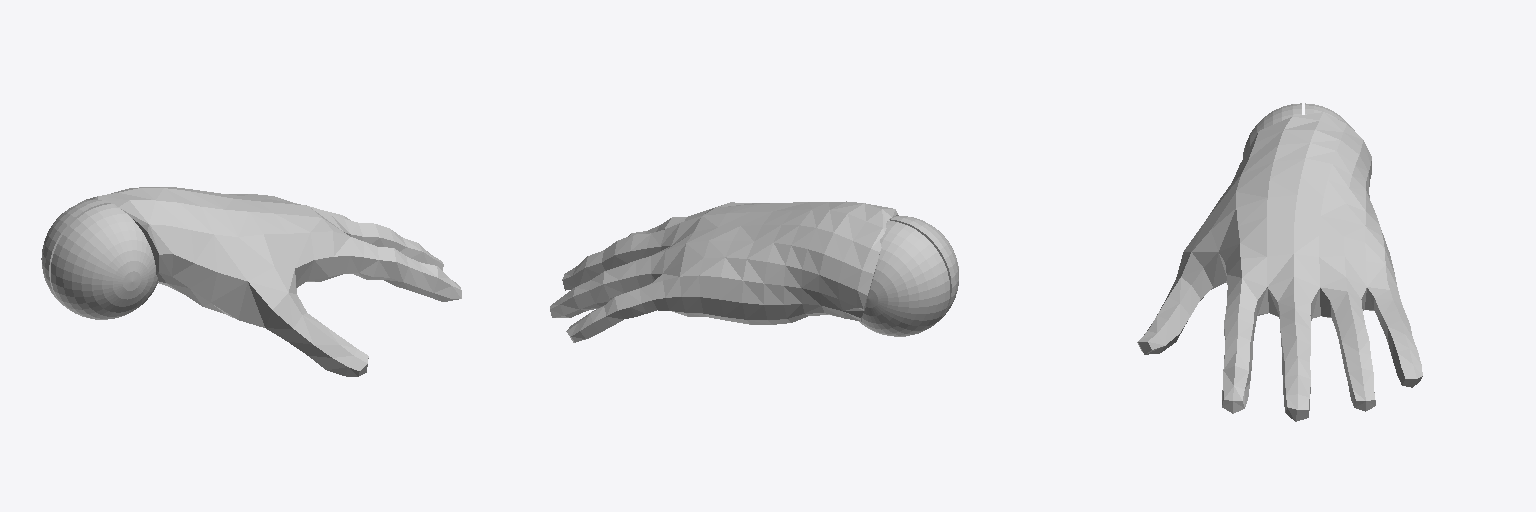
Rendered from Lhand.obj.
The picture shows the model from 3 angles: view 1: azimuth 30°, elevation 25°; view 2: azimuth 150°, elevation 25°; view 3: azimuth 270°, elevation 25°; orthographic projection.
Visible parts, largest first — view 1: pSphere11 exp Lhand, pSphere11 exp; view 2: pSphere11 exp Lhand, pSphere11 exp; view 3: pSphere11 exp Lhand, pSphere11 exp.
Boxes of the visible parts, x1=… form: pSphere11 exp Lhand: x1=78, y1=187, x2=461, y2=376; pSphere11 exp: x1=41, y1=200, x2=157, y2=319; pSphere11 exp Lhand: x1=550, y1=201, x2=898, y2=342; pSphere11 exp: x1=859, y1=216, x2=958, y2=336; pSphere11 exp Lhand: x1=1137, y1=112, x2=1422, y2=421; pSphere11 exp: x1=1243, y1=103, x2=1345, y2=157.
Bounding box in the file's own units: 9.48 × 3.75 × 6.03.